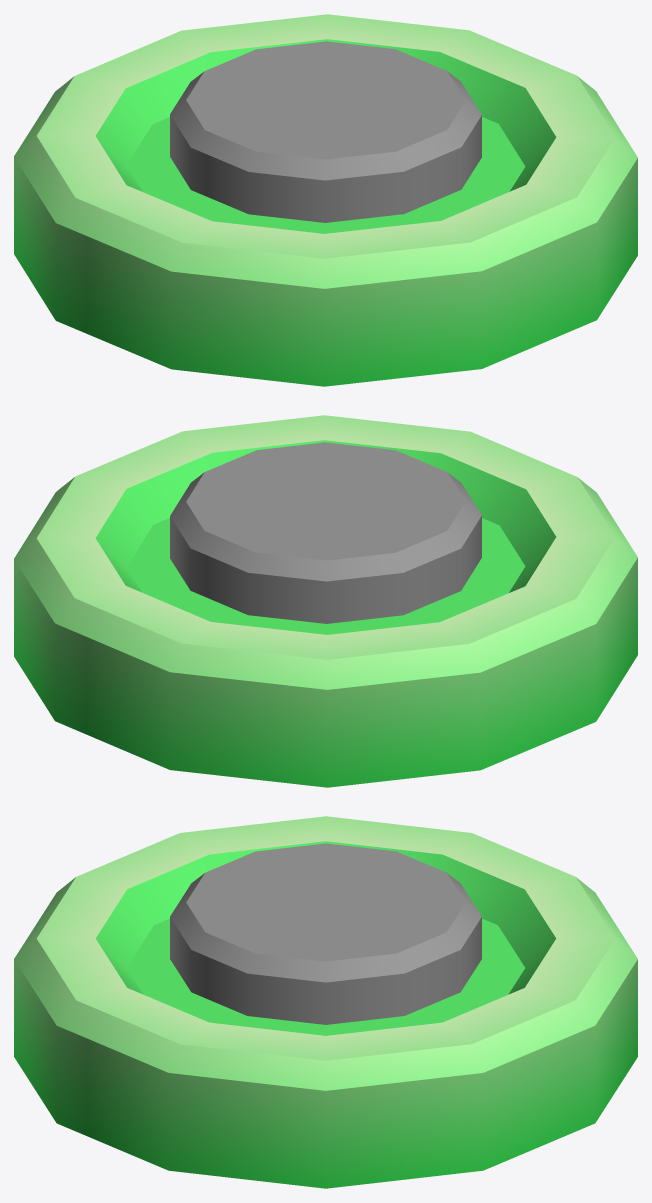
The model's file is Mine (2).fbx.
3 renders of one model, top to bottom at view 1: azimuth 30°, elevation 25°; view 2: azimuth 150°, elevation 25°; view 3: azimuth 270°, elevation 25°, orthographic.
Parts seen in each view (by area): view 1: Mine; view 2: Mine; view 3: Mine.
Boxes of the visible parts, left/top/right/bottom form: Mine: left=14, top=14, right=637, bottom=386; Mine: left=14, top=415, right=637, bottom=787; Mine: left=14, top=816, right=637, bottom=1188.
Size of the model in its own units: 40 by 10.92 by 40.
2 materials, 1 textured.
